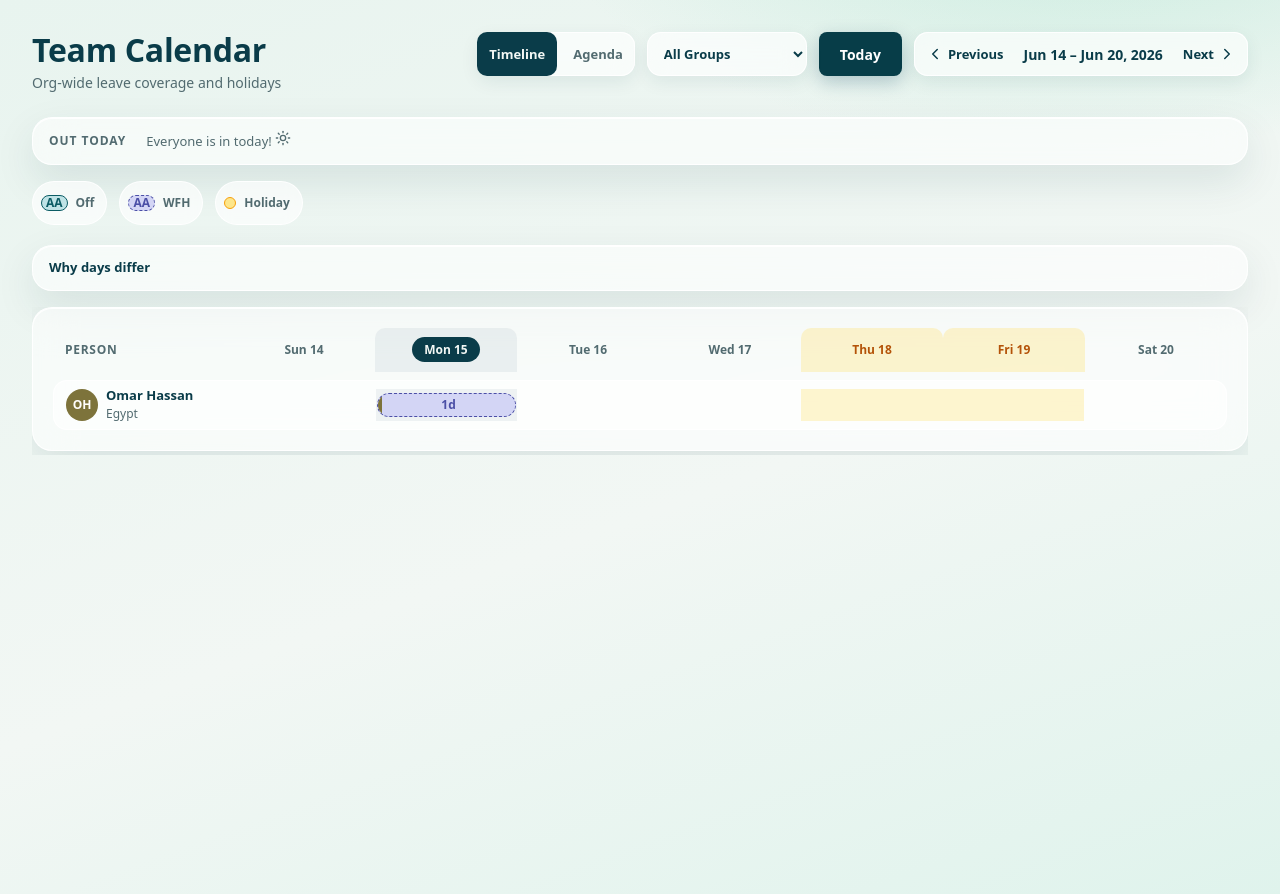
Test: TeamCalendarPage › [P1] opens the selected Agenda date week when switching to Timeline
What coordinates should you click on to do the following:
click the button "Agenda"
I would click on:
 (598, 54)
Its box is [561,32,635,76].
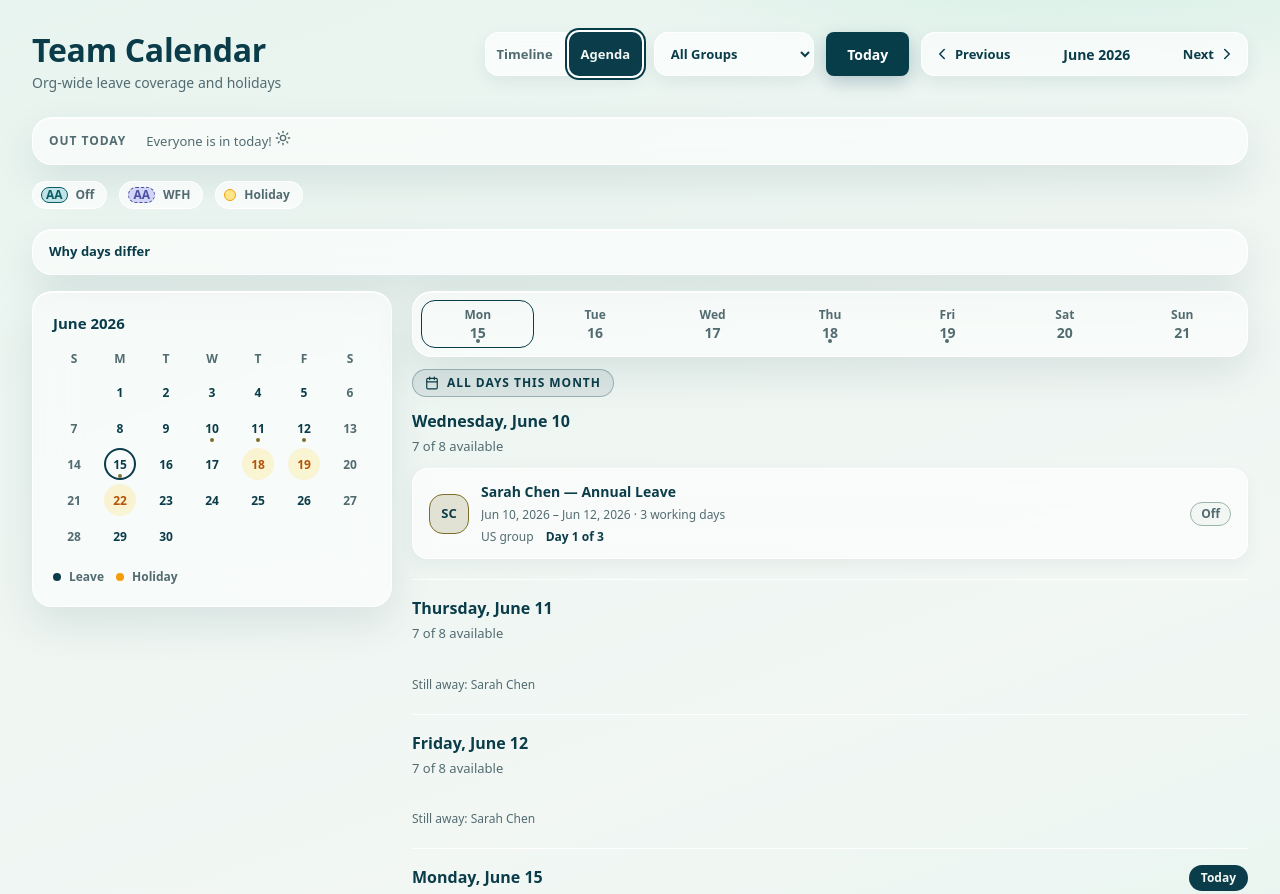
What coordinates should you click on to do the following:
click the button with test id "calendar-prev-month"
I would click on:
 (972, 54)
Its box is [921,32,1023,76].
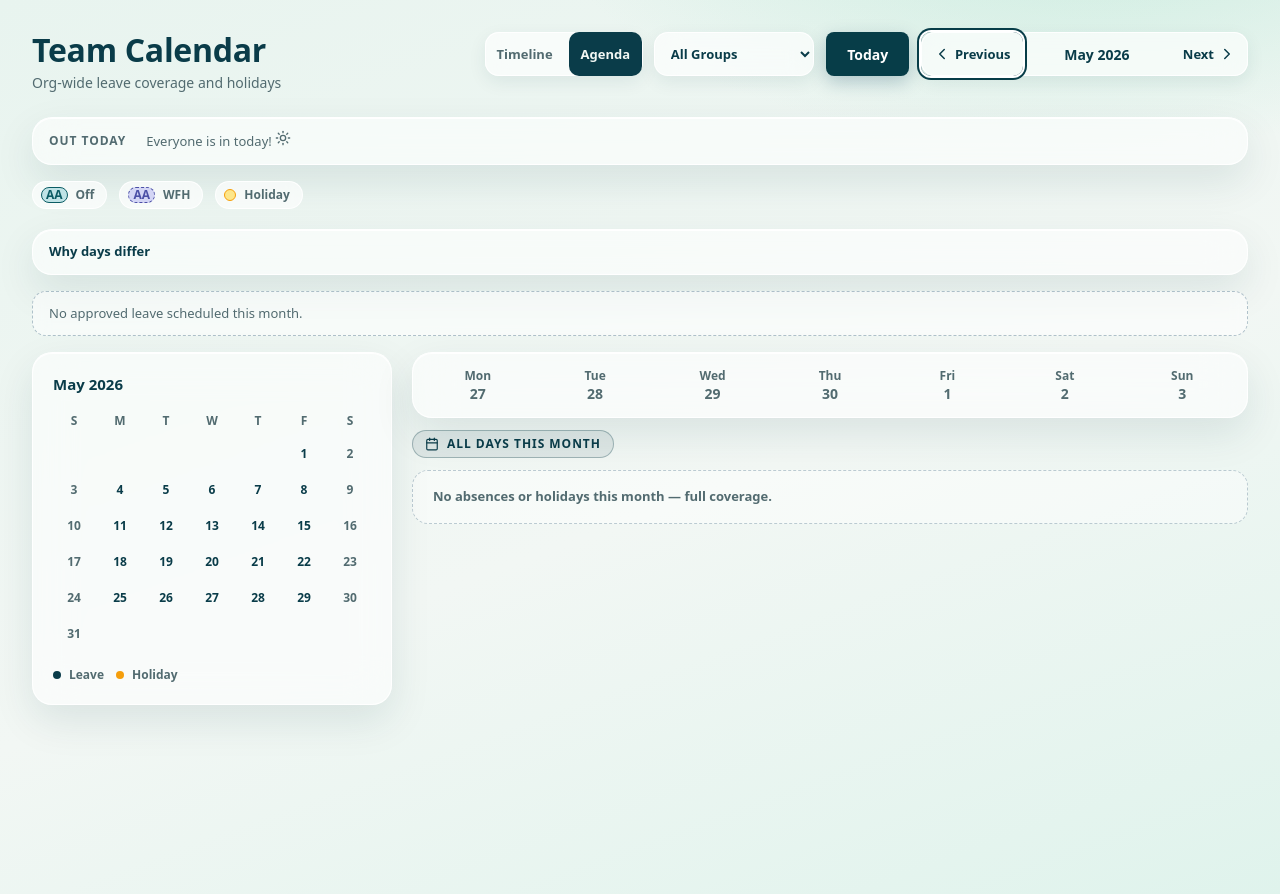
Check: the element with test id "calendar-mini-month" shows "May 2026", box [53,374,123,394]
What coordinates should you click on to do the following:
click the button with test id "calendar-day-2026-05-20"
I would click on:
 (212, 562)
Its box is [196,546,228,578].
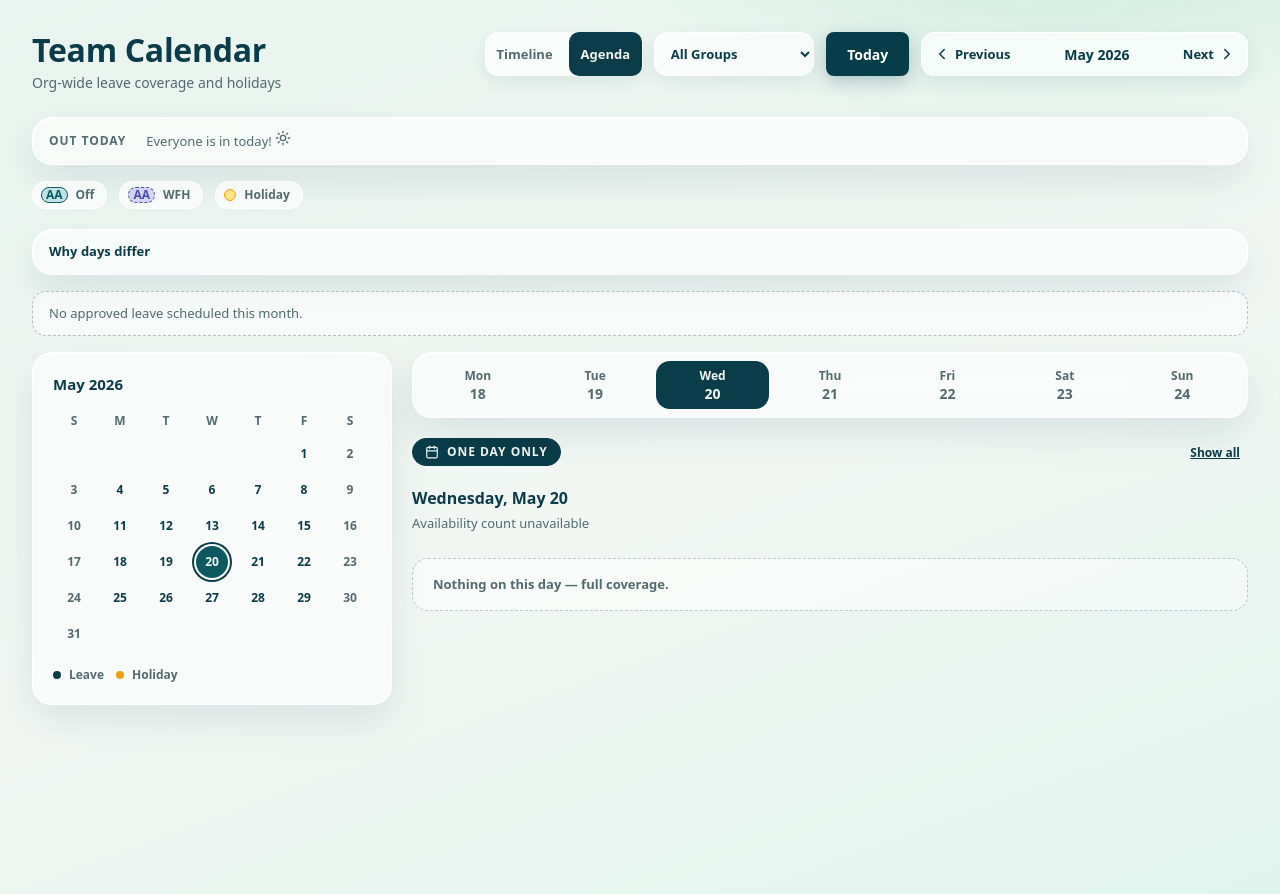
What coordinates should you click on to do the following:
click the button "Timeline"
I would click on:
 (525, 54)
Its box is [484,32,565,76].
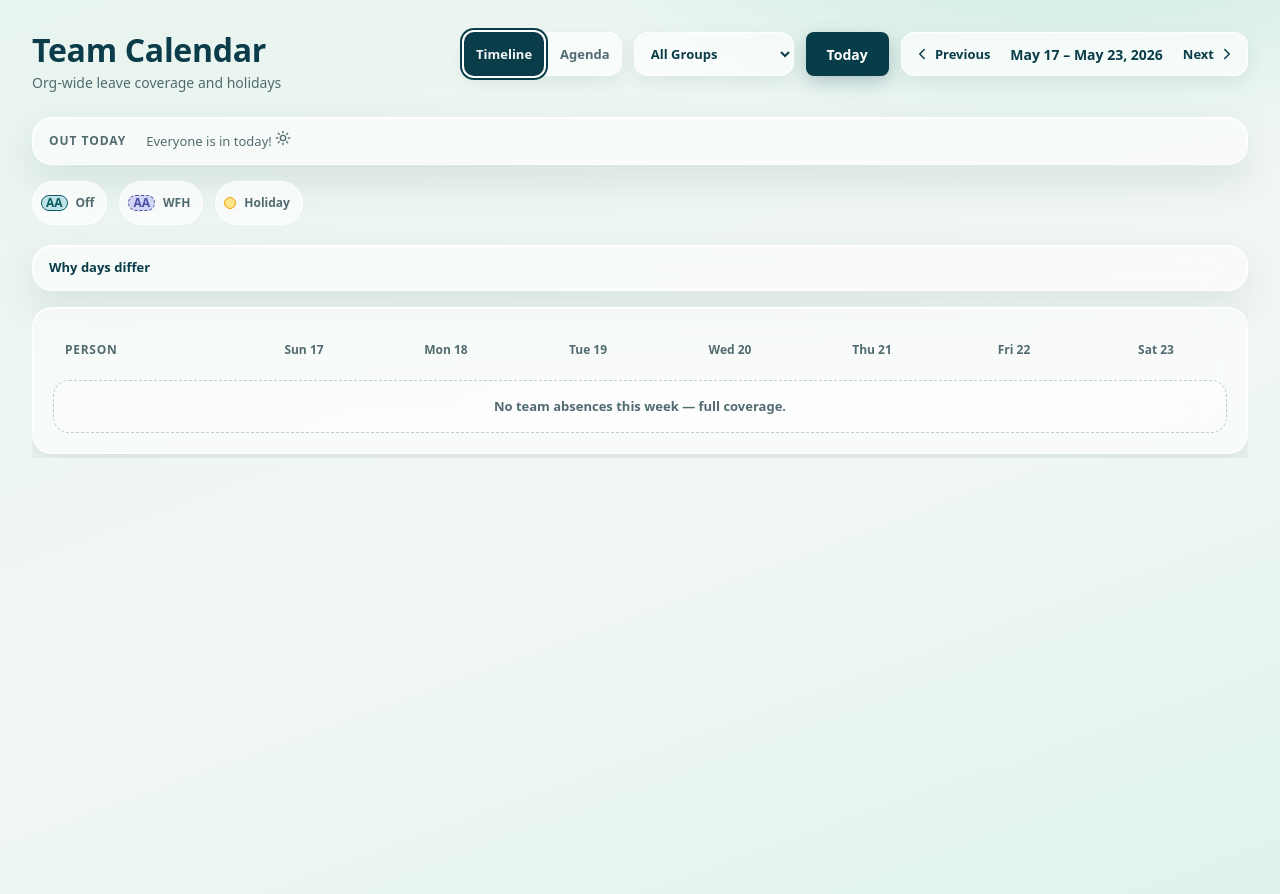
Check: the text "May 17 – May 23, 2026" is shown, box [1010,44,1163,64]
